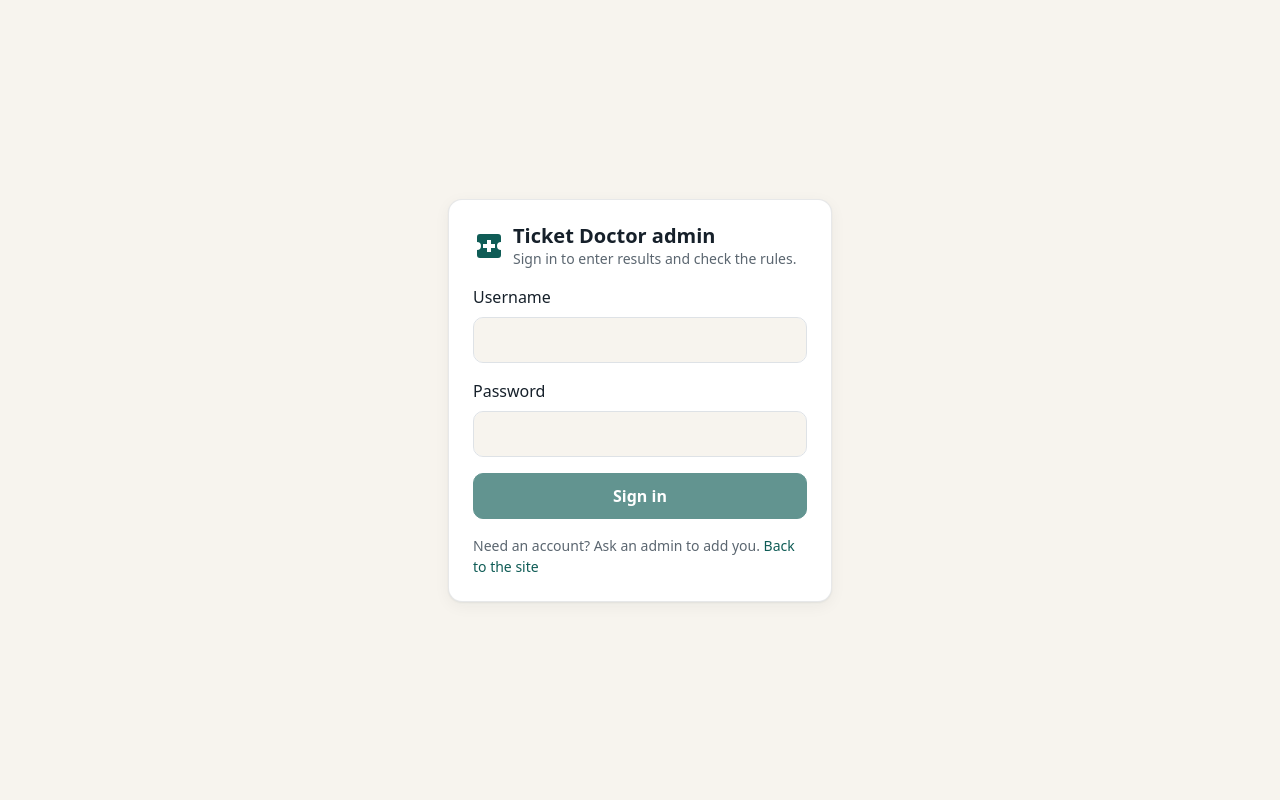
Scenario: Admin area (B6) › shows the dashboard with games awaiting a result and the import history
This screenshot has width=1280, height=800.
Type "admin" into the field labelled "Username" at x=640, y=340, box [473, 316, 807, 362]
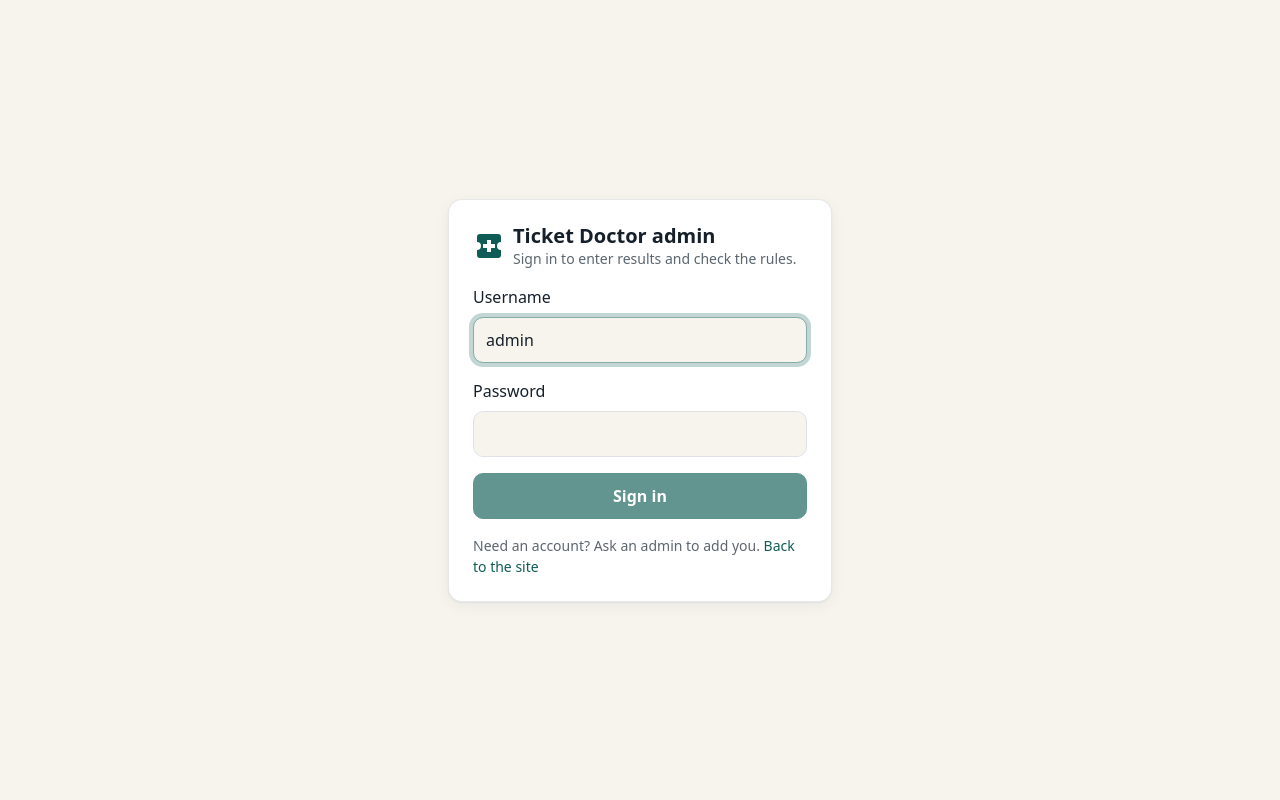
Type "mock password 123" into the password field labelled "Password" at x=640, y=434, box [473, 410, 807, 456]
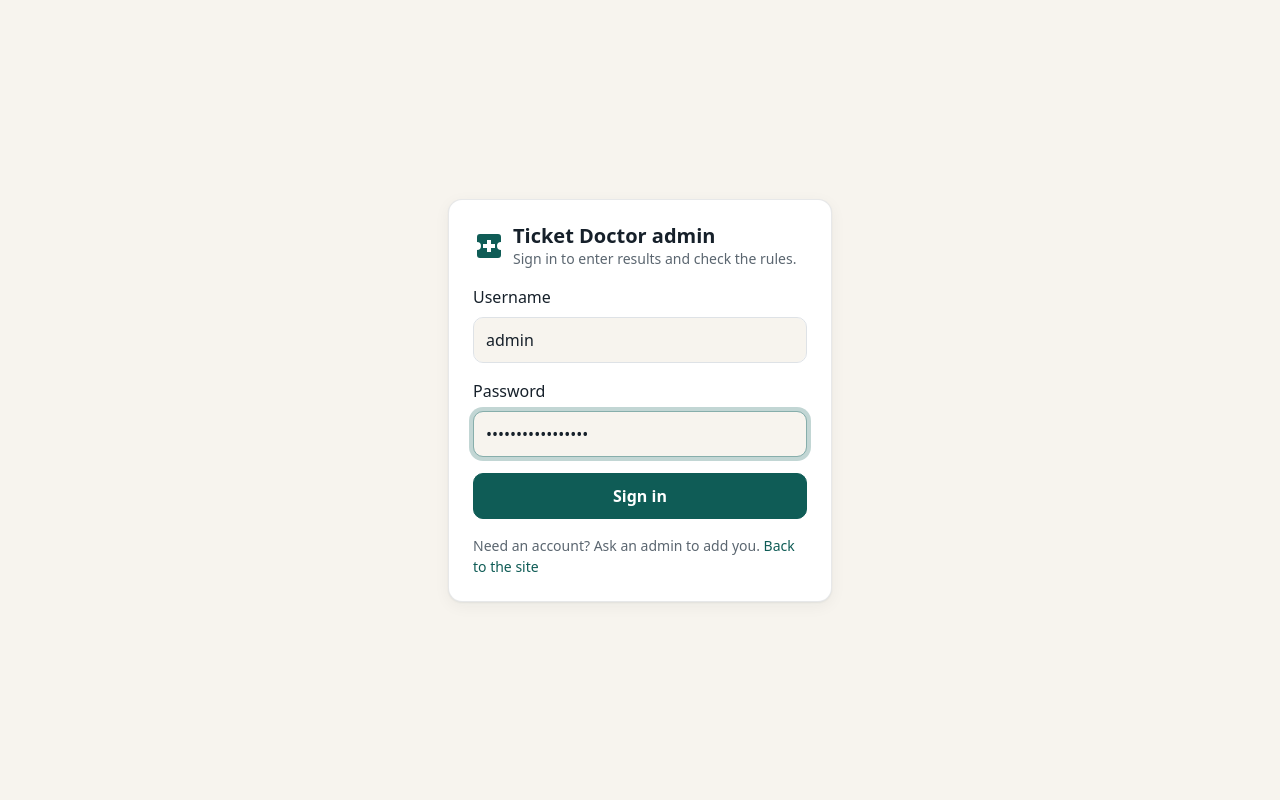
Click the button "Sign in" at x=640, y=496, box [473, 472, 807, 518]
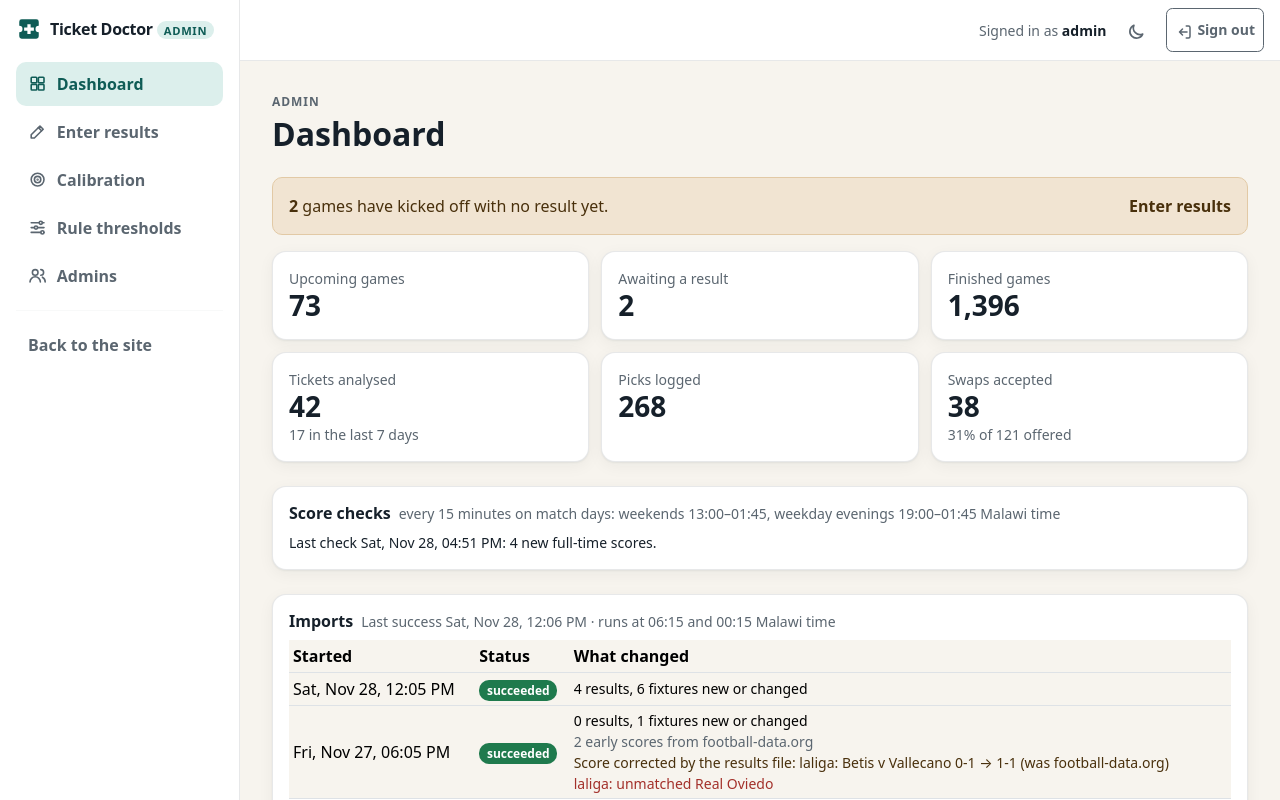
Expected: the heading "Dashboard" is shown, [272, 112, 446, 155]
Expected: the message shows "2 games have kicked off with no result yet.", [272, 177, 1248, 235]
Expected: the text "laliga: unmatched Real Oviedo" is shown, [574, 774, 773, 793]
